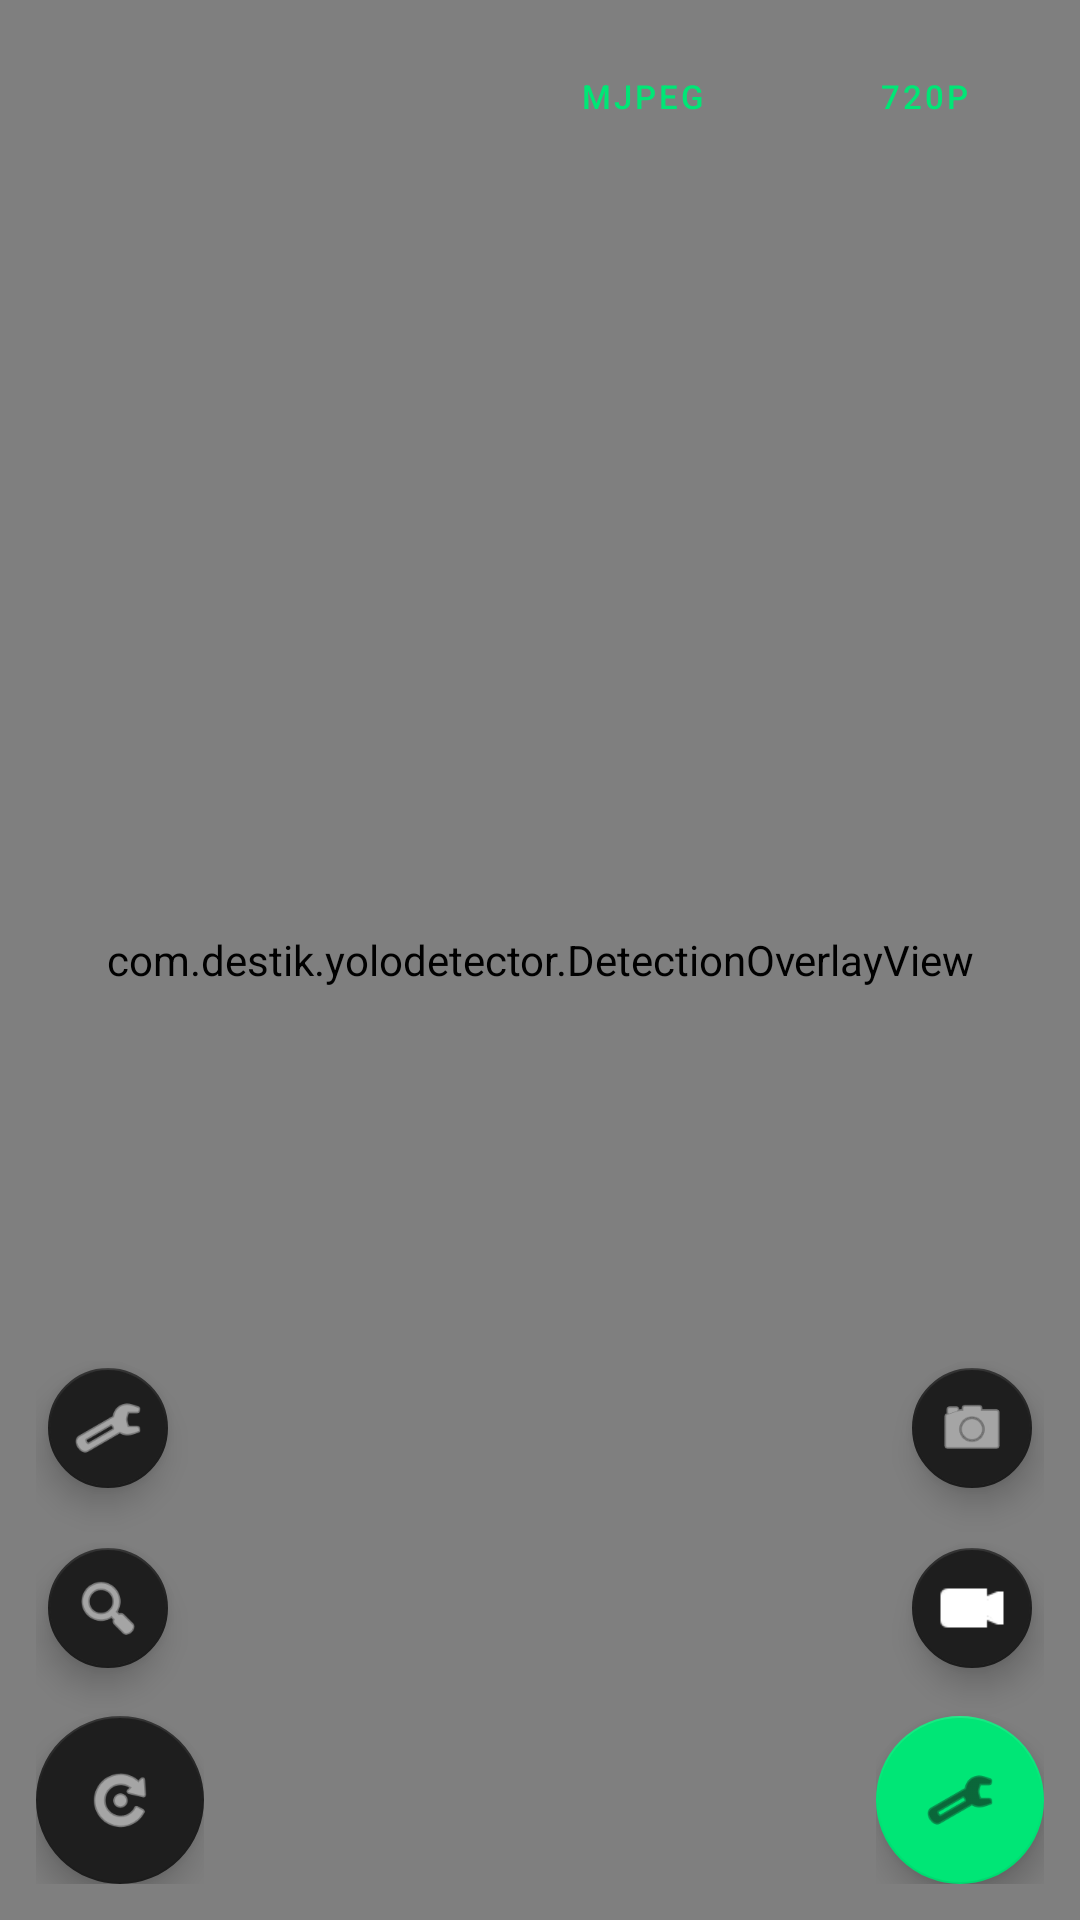

Icons on this 1080×1920 Android screen, each with its box as (x1,y1,x2,y2):
manage: (48,1368,168,1488)
preferences: (876,1716,1044,1884)
presence video online: (912,1548,1032,1668)
rotate: (36,1716,204,1884)
search: (48,1548,168,1668)
